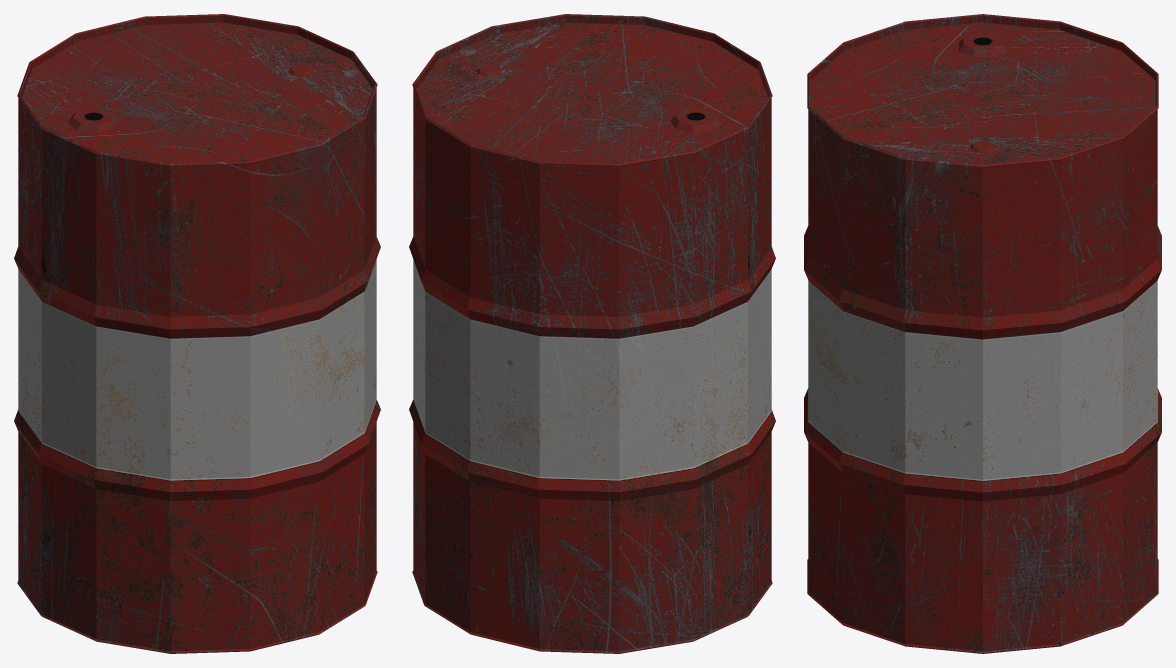
Rendered from barrelRed.obj.
The picture shows the model from 3 angles, left to right: view 1: azimuth 30°, elevation 25°; view 2: azimuth 150°, elevation 25°; view 3: azimuth 270°, elevation 25°; orthographic projection.
Visible parts, largest first — view 1: metal_barrel_Untitled; view 2: metal_barrel_Untitled; view 3: metal_barrel_Untitled.
Part boxes in pixels (box(x1,y1,x2,y2)): metal_barrel_Untitled: box(14, 14, 380, 653); metal_barrel_Untitled: box(409, 14, 775, 653); metal_barrel_Untitled: box(804, 14, 1161, 653).
Size of the model in its own units: 0.615 by 0.9043 by 0.5996.
